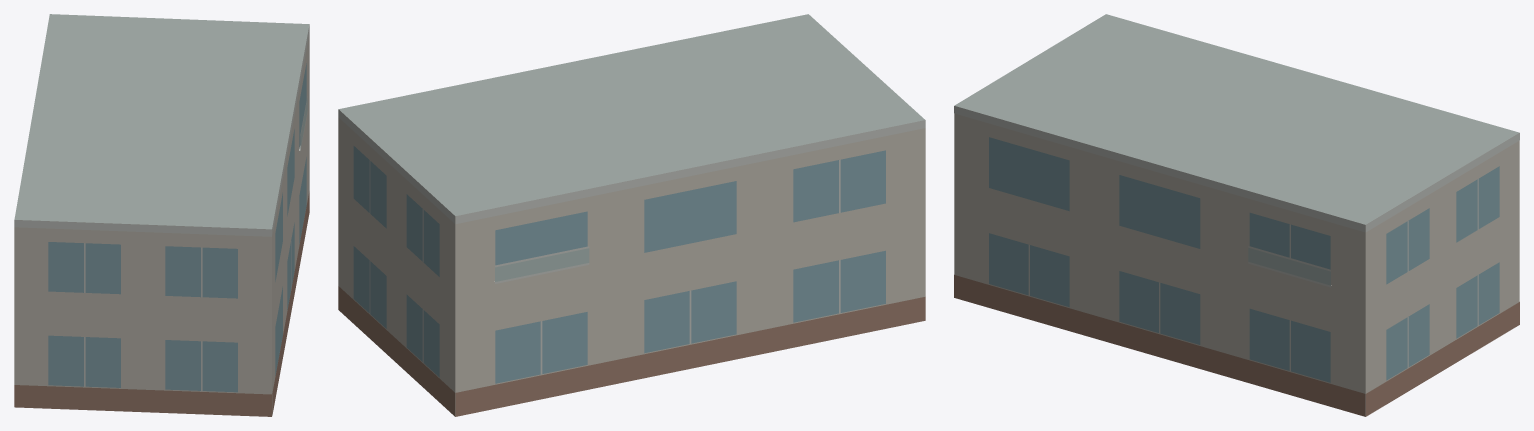
The model's file is survey-upis-32652969.glb.
3 views of the same model, side by side, from view 1: azimuth 30°, elevation 25°; view 2: azimuth 150°, elevation 25°; view 3: azimuth 270°, elevation 25° (orthographic). The views are drawn at different scales.
Parts seen in each view (by area): view 1: survey-upis-32652969.tmp; view 2: survey-upis-32652969.tmp; view 3: survey-upis-32652969.tmp.
Boxes of the visible parts, x1=… form: survey-upis-32652969.tmp: x1=14, y1=14, x2=309, y2=416; survey-upis-32652969.tmp: x1=338, y1=14, x2=925, y2=416; survey-upis-32652969.tmp: x1=954, y1=14, x2=1519, y2=416.
Bounding box in the file's own units: 14.37 × 6.1 × 16.29.
